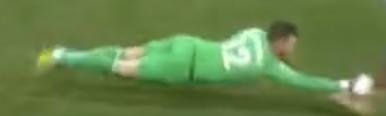goalkeeper: (15, 2, 386, 103)
